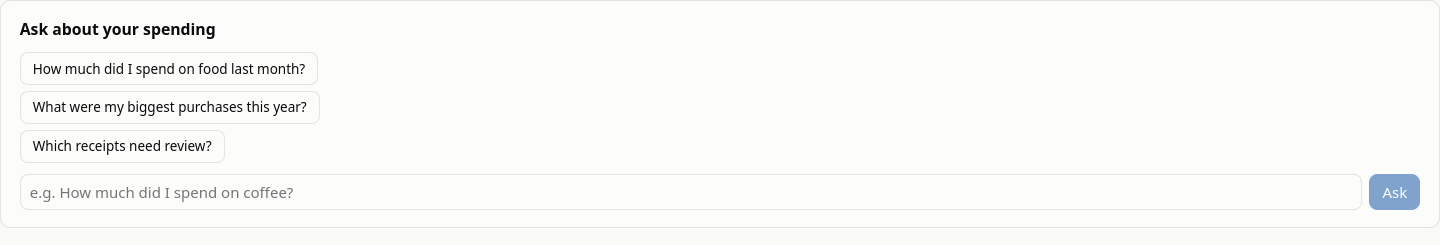
Test: a suggestion button asks that question
Click the button "Which receipts need review?". click: [122, 146]
box: [20,130,225,163]
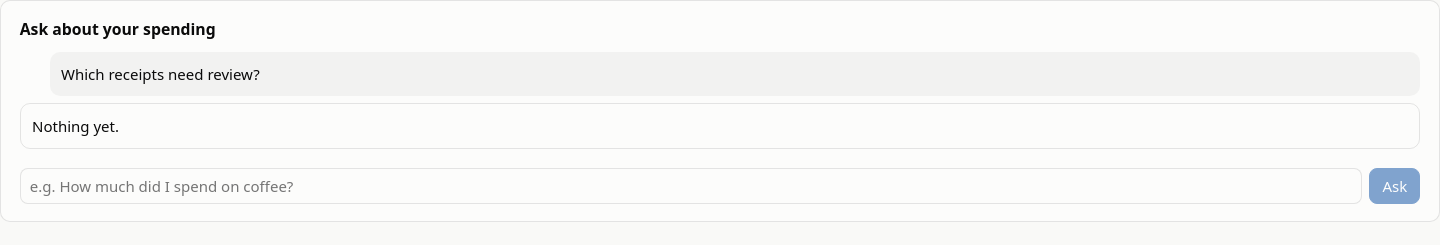
Expected: the text "Which receipts need review?" is shown, [61,64,260,84]
Now the text "Nothing yet." is shown, box [32,116,119,136]
